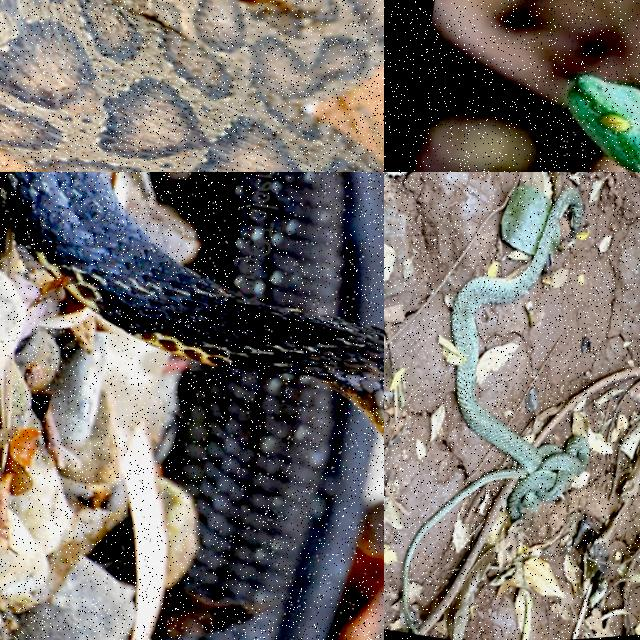Chrysopelea ornata: (401, 187, 588, 634)
Daboia siamensis: (0, 0, 383, 171)
Ophiophagus hannah: (4, 172, 383, 639)
Trimeresurus macrops: (566, 74, 639, 171)
